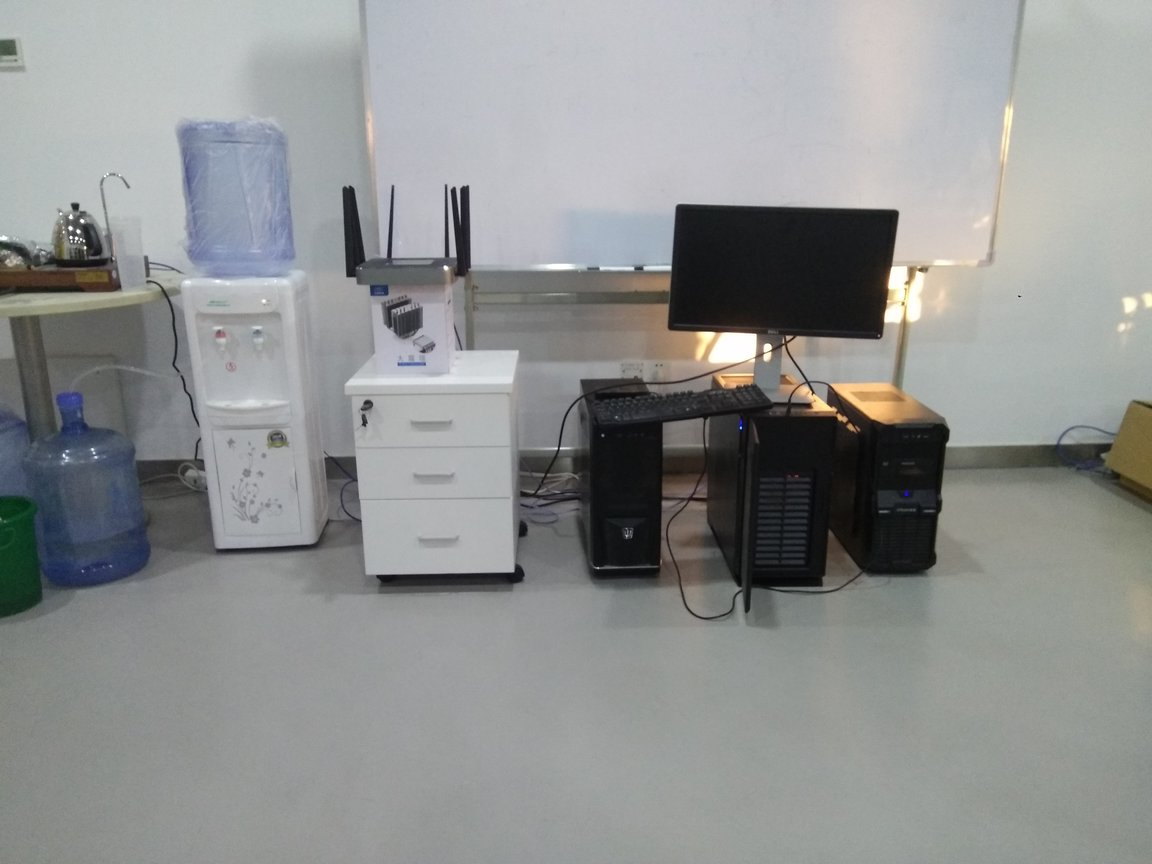computer: (712, 367, 831, 602), (828, 376, 950, 580), (577, 374, 674, 590)
drawer chest: (356, 349, 530, 591)
monitor: (671, 199, 894, 418)
scuttlebutt: (28, 388, 153, 590), (174, 112, 299, 279), (3, 409, 39, 595)
water dispenser: (178, 268, 335, 557)
